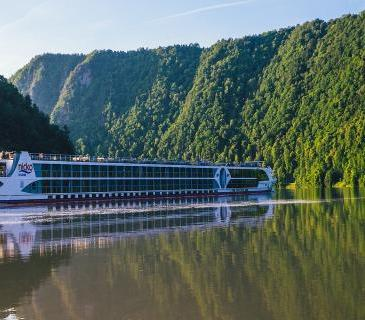Ship: (0, 124, 306, 227)
